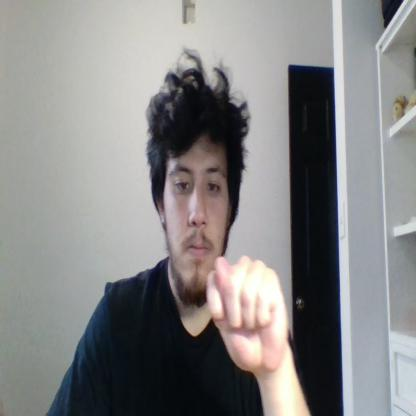T: (206, 254, 288, 374)
